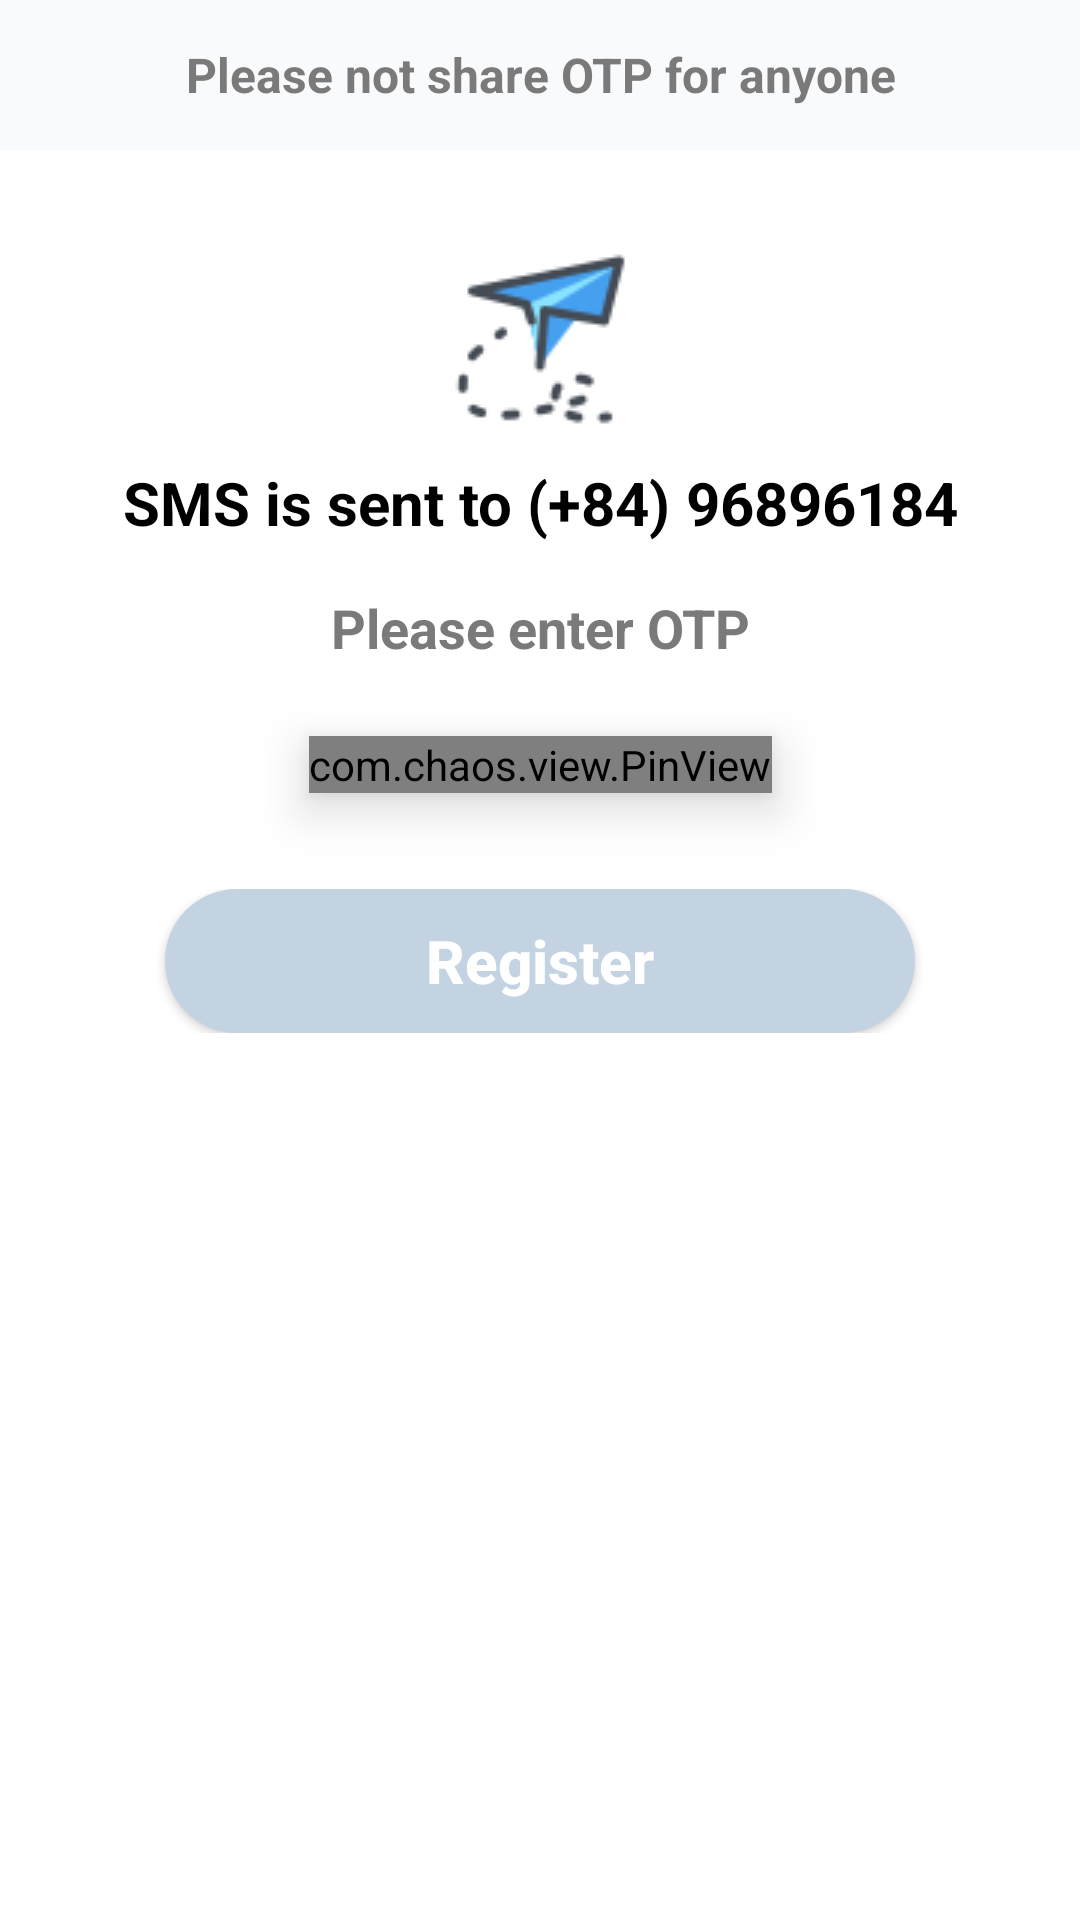

Icons on this 1080 × 1920 Android screen, each with its box as {"x1": x1, "y1": y1, "x2": x2, "y2": y2}:
send: {"x1": 456, "y1": 254, "x2": 625, "y2": 424}
